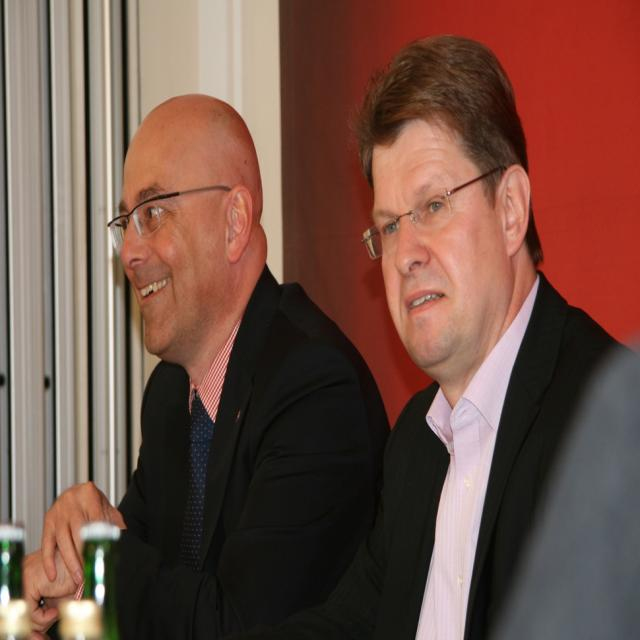Glasses: (366, 167, 512, 248), (106, 186, 232, 256)
